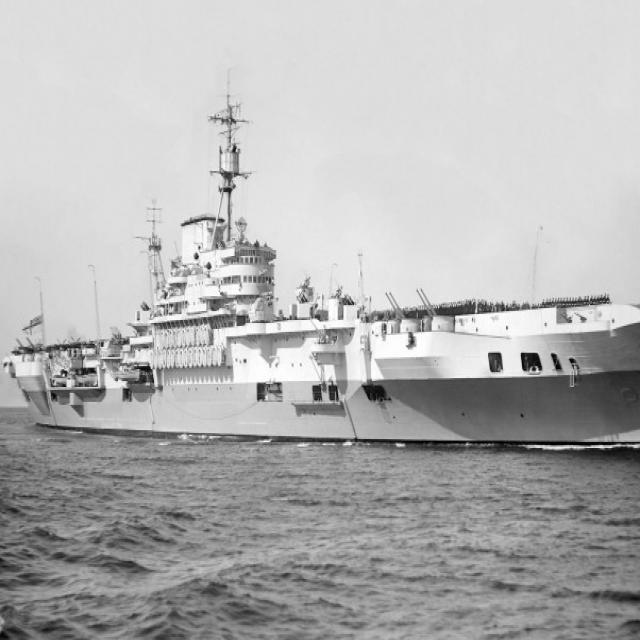Portanaves: (1, 72, 640, 458)
